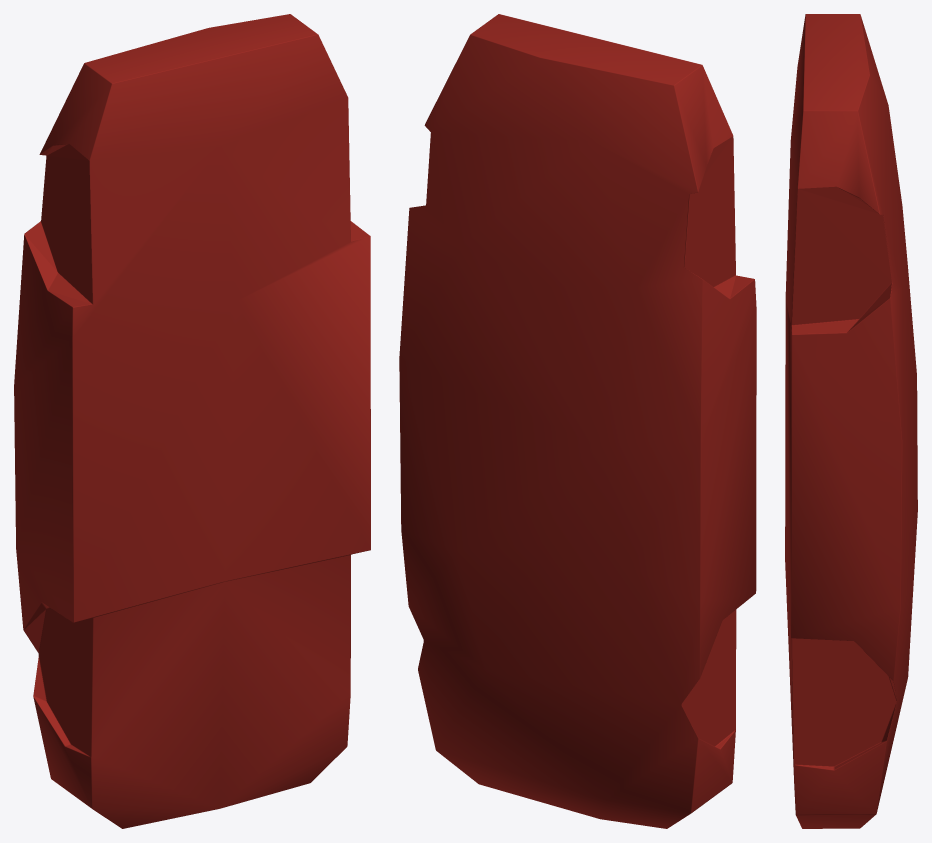
The model's file is HeroCrownfire_LOD2.fbx.
3 views of the same model, side by side, from view 1: azimuth 30°, elevation 25°; view 2: azimuth 150°, elevation 25°; view 3: azimuth 270°, elevation 25° (orthographic). The views are drawn at different scales.
Parts seen in each view (by area): view 1: Crownfire_BODY_SHELL_LOD2; view 2: Crownfire_BODY_SHELL_LOD2; view 3: Crownfire_BODY_SHELL_LOD2.
Part boxes in pixels (x1=…): Crownfire_BODY_SHELL_LOD2: x1=14, y1=14, x2=370, y2=828; Crownfire_BODY_SHELL_LOD2: x1=399, y1=14, x2=756, y2=828; Crownfire_BODY_SHELL_LOD2: x1=785, y1=14, x2=917, y2=828.
Bounding box in the file's own units: 206 × 486 × 80.97.
